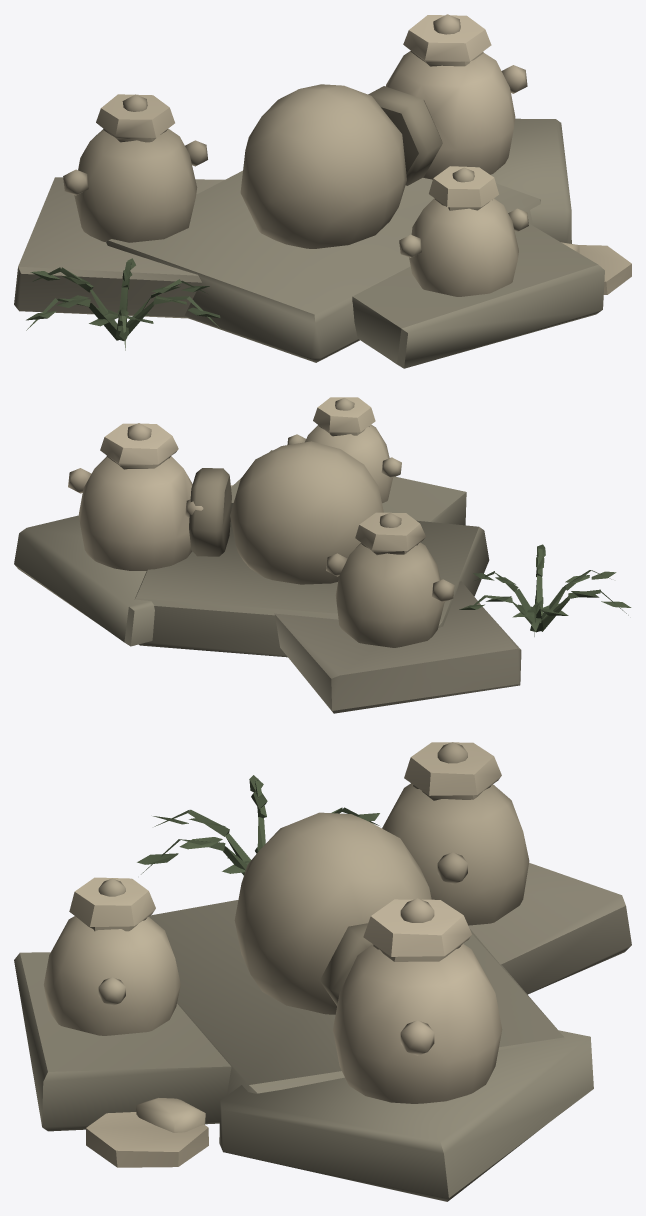
The model's file is granary_jars_c_lod1.glb.
3 views of the same model, one above another, from view 1: azimuth 30°, elevation 25°; view 2: azimuth 150°, elevation 25°; view 3: azimuth 270°, elevation 25° (orthographic). The views are drawn at different scales.
Visible parts, largest first — view 1: Surface.001; view 2: Surface.001; view 3: Surface.001.
Part boxes in pixels (x1=…): Surface.001: x1=14, y1=14, x2=631, y2=368; Surface.001: x1=14, y1=397, x2=631, y2=713; Surface.001: x1=14, y1=742, x2=631, y2=1201.
Bounding box in the file's own units: 3.74 × 1.13 × 2.63.
